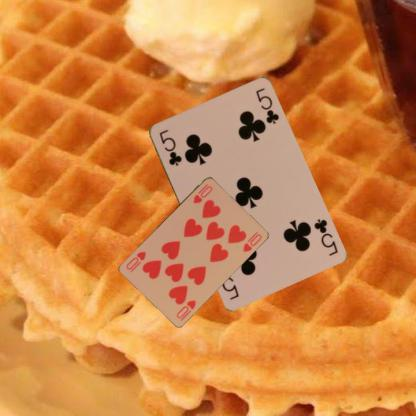10h: (190, 181, 214, 204), (174, 297, 197, 319)
5c: (311, 216, 339, 257), (156, 127, 183, 168)
